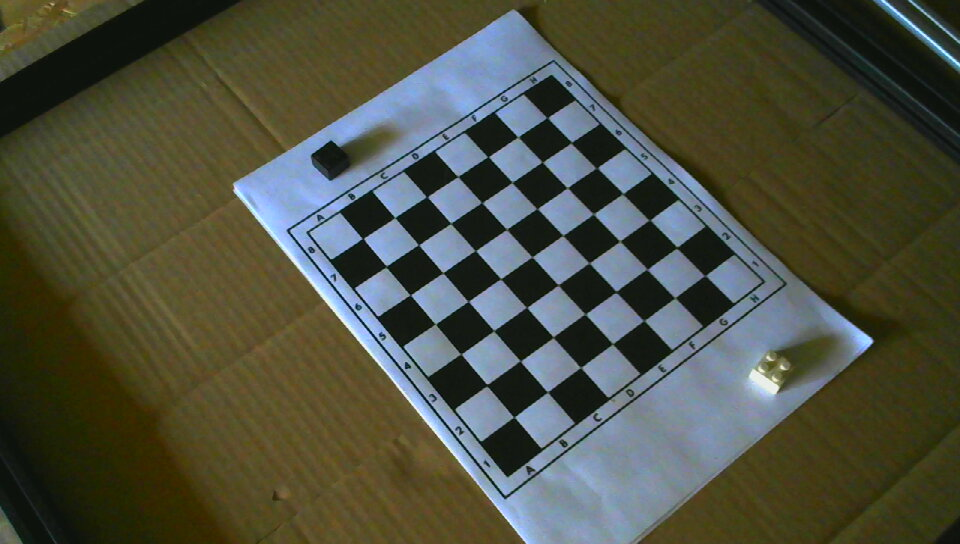bp: (310, 141, 351, 179)
wp: (747, 347, 796, 396)
